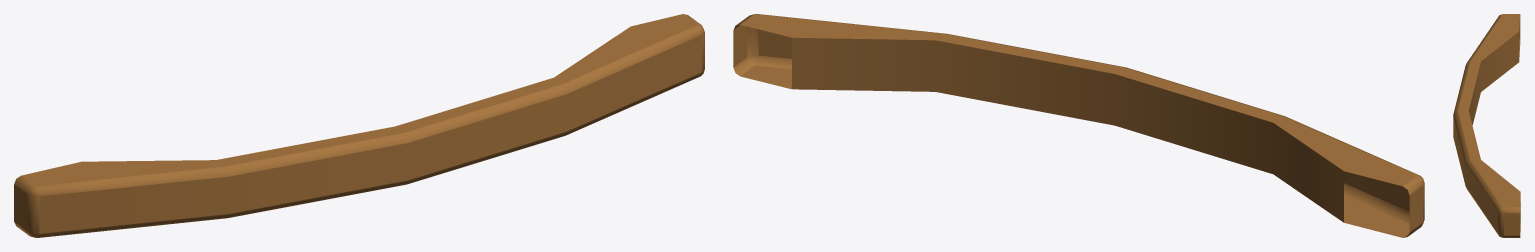
The picture shows the model from 3 angles, left to right: view 1: azimuth 30°, elevation 25°; view 2: azimuth 150°, elevation 25°; view 3: azimuth 270°, elevation 25°; orthographic projection. The views are drawn at different scales.
Visible parts, largest first — view 1: 8#8; view 2: 8#8; view 3: 8#8.
Boxes of the visible parts, x1,y1,x2,y2 form: 8#8: (14, 14, 704, 237); 8#8: (733, 14, 1424, 237); 8#8: (1453, 14, 1520, 237).
Bounding box in the file's own units: 0.1486 × 0.0108 × 0.0215.
